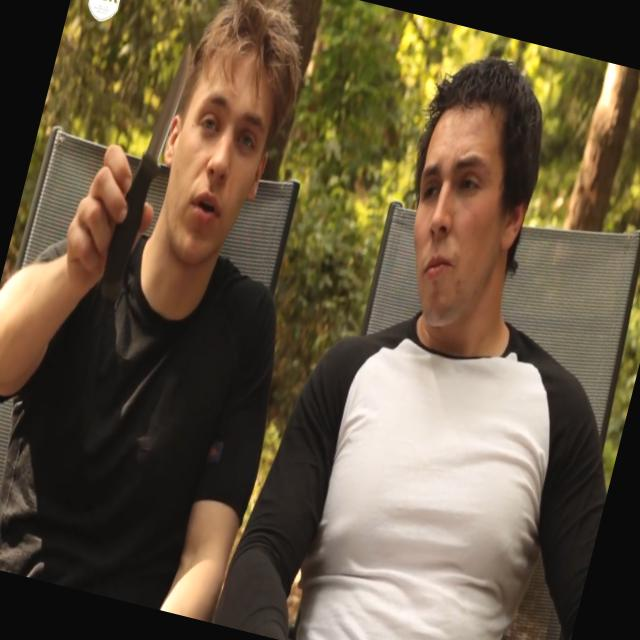knife: (101, 22, 204, 236)
